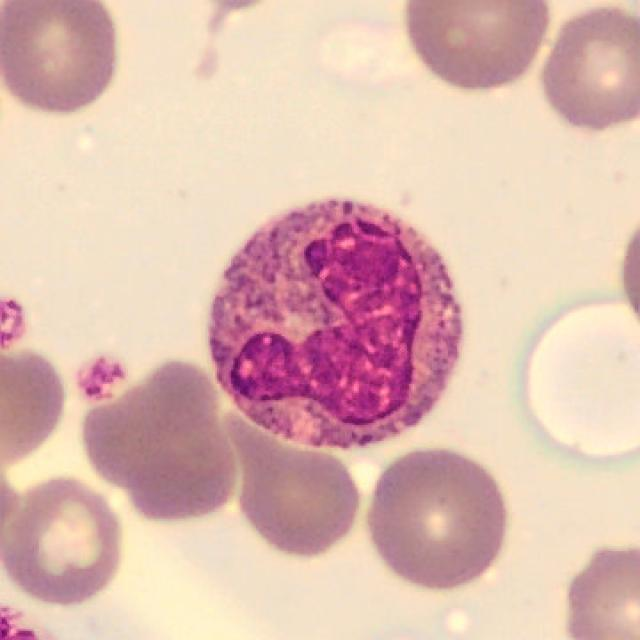Neutrofilo segmentado: (209, 201, 458, 451)
